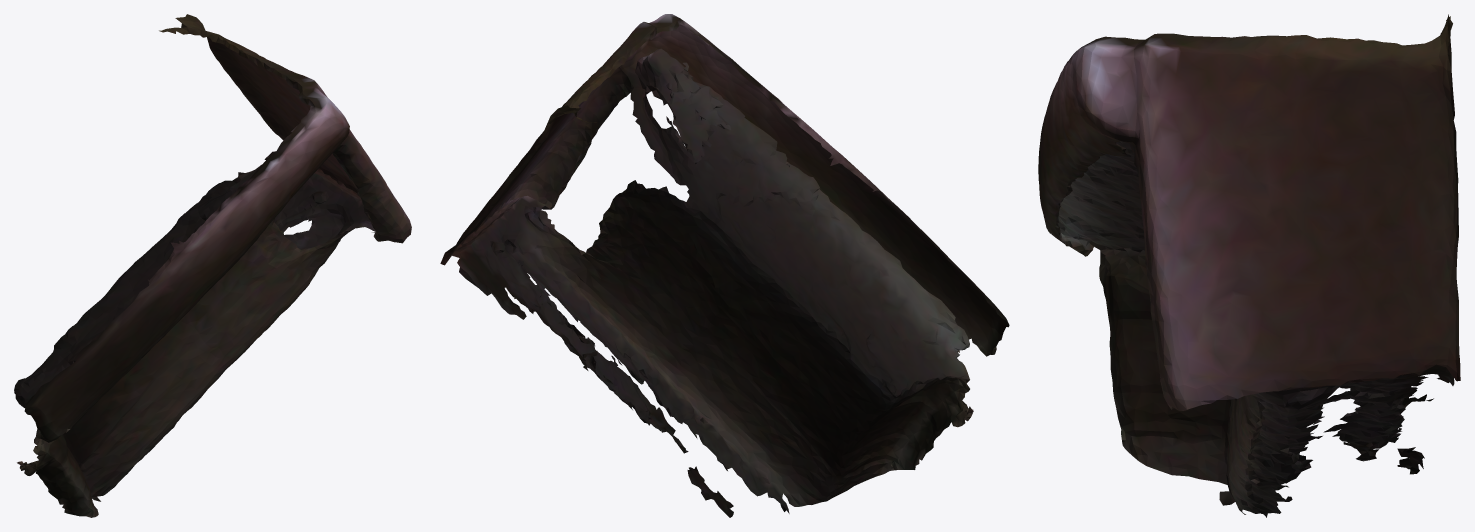
File: 9-couch.rot.rot.obj
3 renders of one model, left to right at view 1: azimuth 30°, elevation 25°; view 2: azimuth 150°, elevation 25°; view 3: azimuth 270°, elevation 25°, orthographic. The views are drawn at different scales.
Bounding box in the file's own units: 1.37 × 1.2 × 0.7634.
